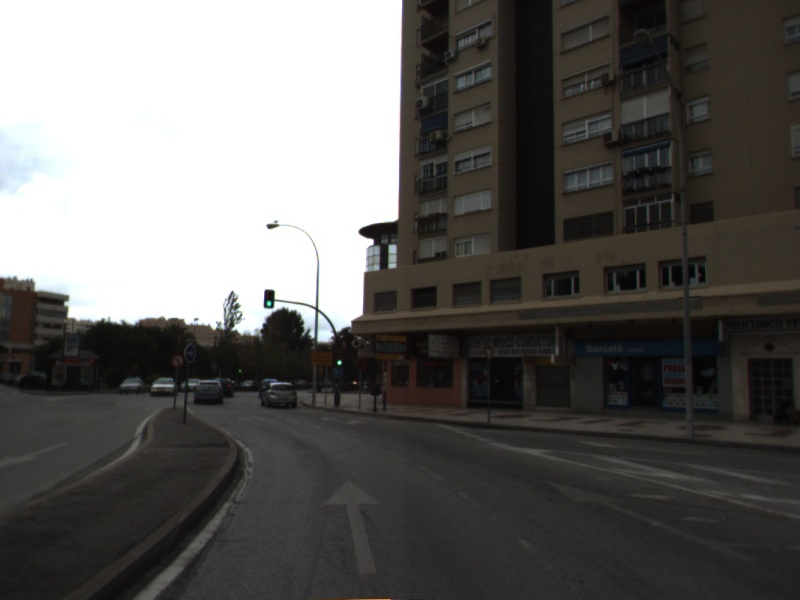STRAIGHT: (546, 478, 759, 563), (321, 477, 384, 577)
